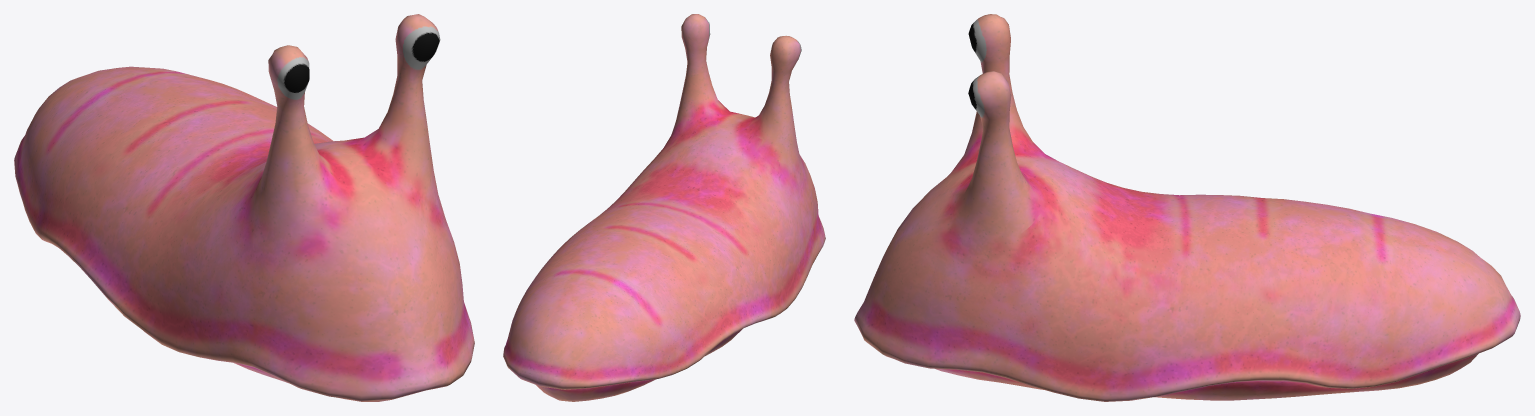
Rendered from Babosa.glb.
The picture shows the model from 3 angles, left to right: view 1: azimuth 30°, elevation 25°; view 2: azimuth 150°, elevation 25°; view 3: azimuth 270°, elevation 25°; orthographic projection. The views are drawn at different scales.
Parts seen in each view (by area): view 1: Babosa; view 2: Babosa; view 3: Babosa.
Part boxes in pixels (x1,y1,x2,y2): Babosa: (14, 14, 474, 401); Babosa: (503, 14, 825, 401); Babosa: (854, 14, 1520, 401).
Bounding box in the file's own units: 0.0141 × 0.0165 × 0.0311.
1 material, 1 textured.
